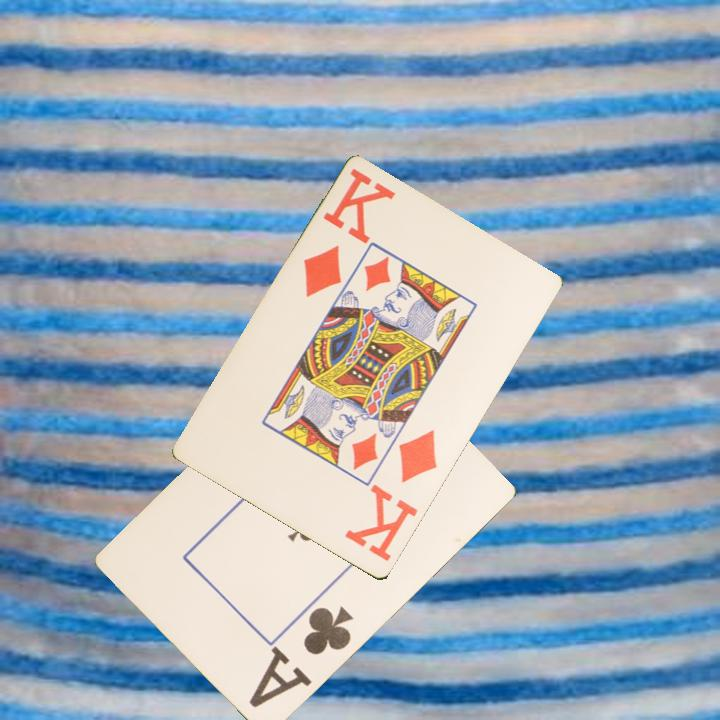Ac: (244, 603, 357, 712)
Kd: (341, 426, 441, 565), (299, 165, 397, 301)
